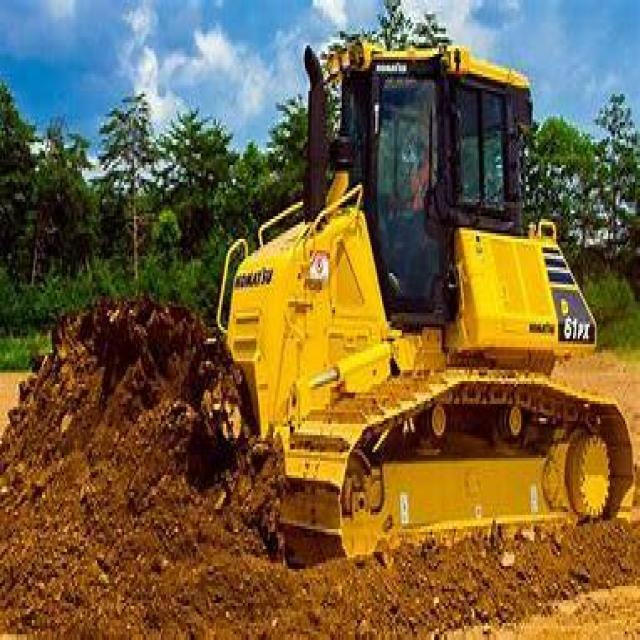Bulldozer: (158, 12, 636, 600)
